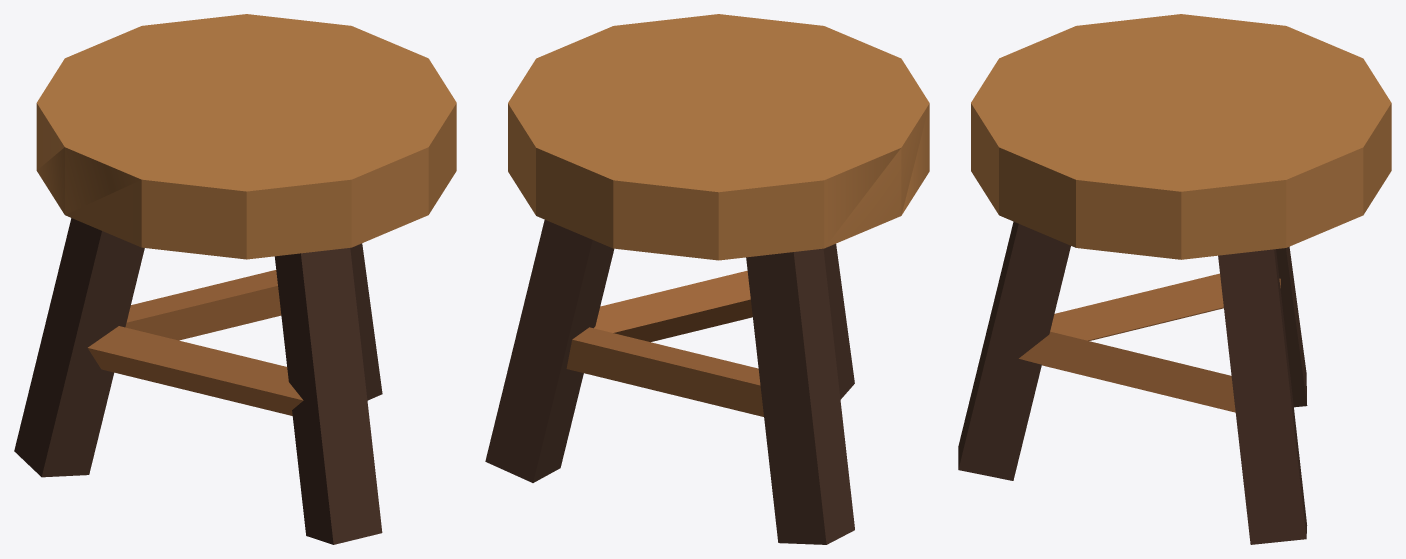
File: 39_round_stool.fbx
3 renders of one model, left to right at view 1: azimuth 30°, elevation 25°; view 2: azimuth 150°, elevation 25°; view 3: azimuth 270°, elevation 25°, orthographic.
Visible parts, largest first — view 1: 39_round_stool; view 2: 39_round_stool; view 3: 39_round_stool.
Part boxes in pixels (left/top/right/bottom): 39_round_stool: left=14, top=14, right=456, bottom=544; 39_round_stool: left=485, top=14, right=929, bottom=544; 39_round_stool: left=958, top=14, right=1391, bottom=544.
Bounding box in the file's own units: 0.56 × 0.5411 × 0.5766.
1 material, 1 textured.
